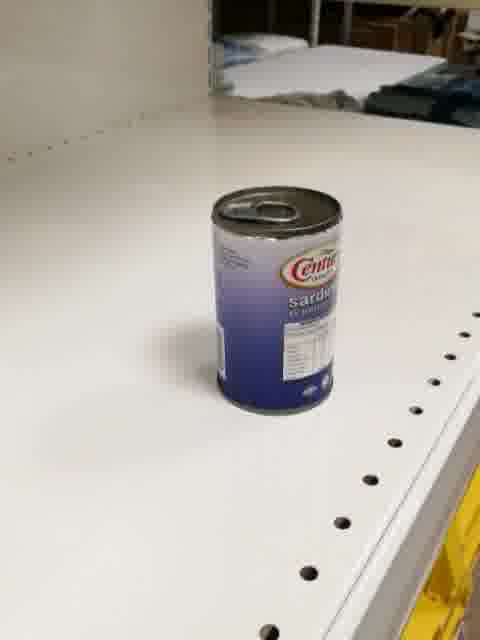sardine: (209, 185, 343, 416)
